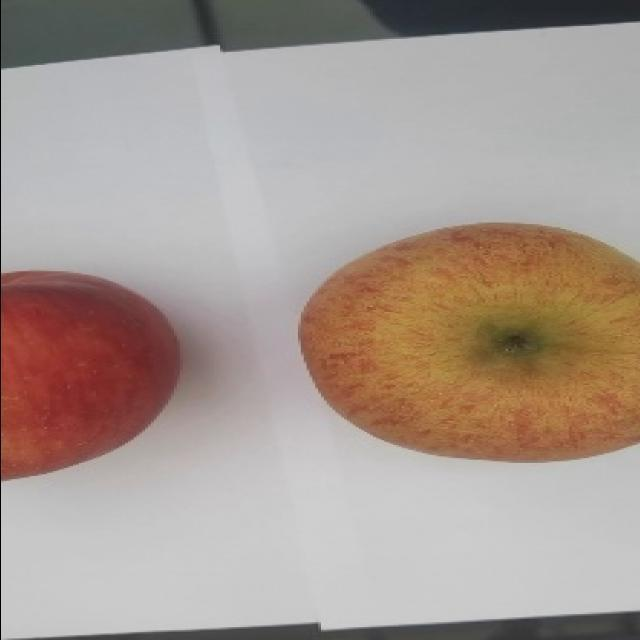Apple: (296, 221, 640, 465), (0, 270, 188, 484)
